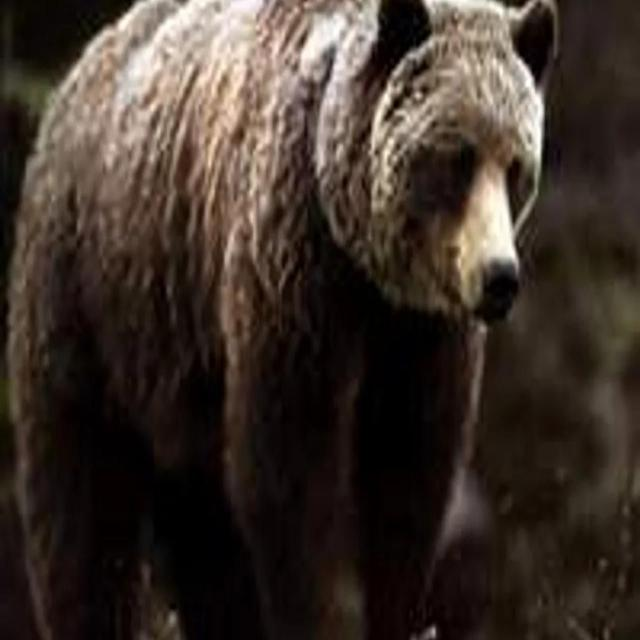Bear: (0, 0, 562, 640)
